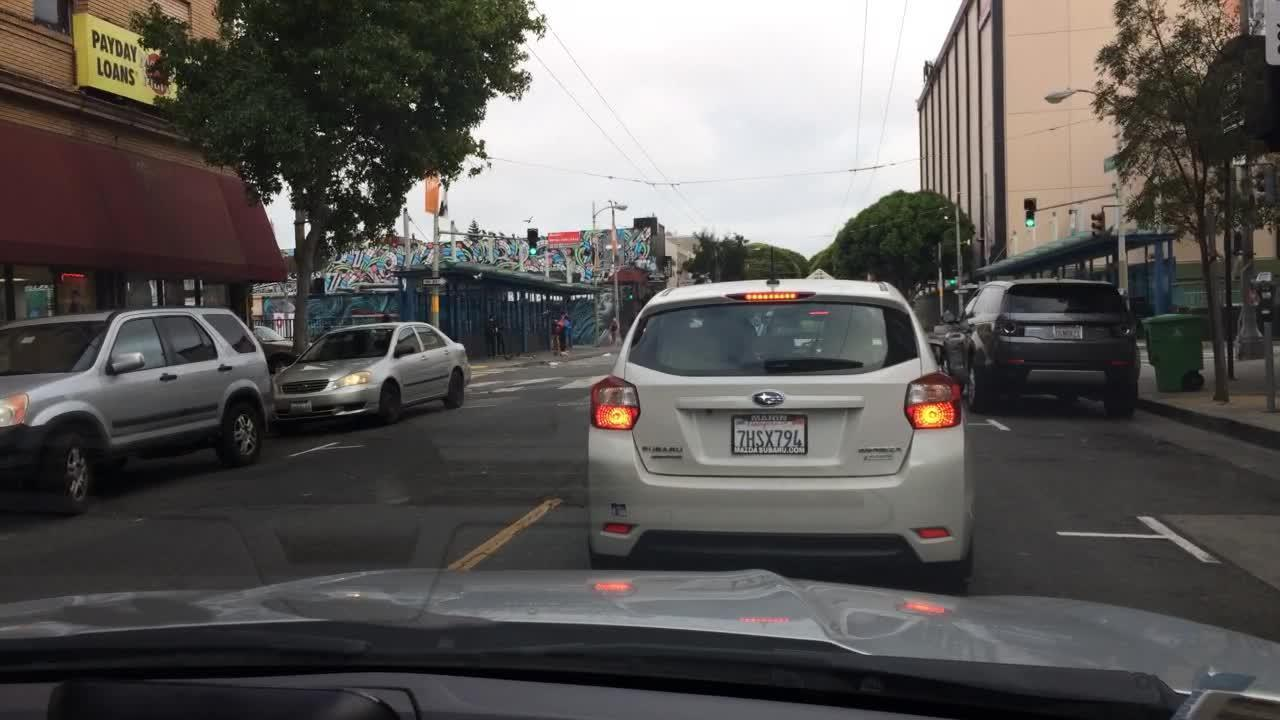subaru: (747, 382, 791, 413)
